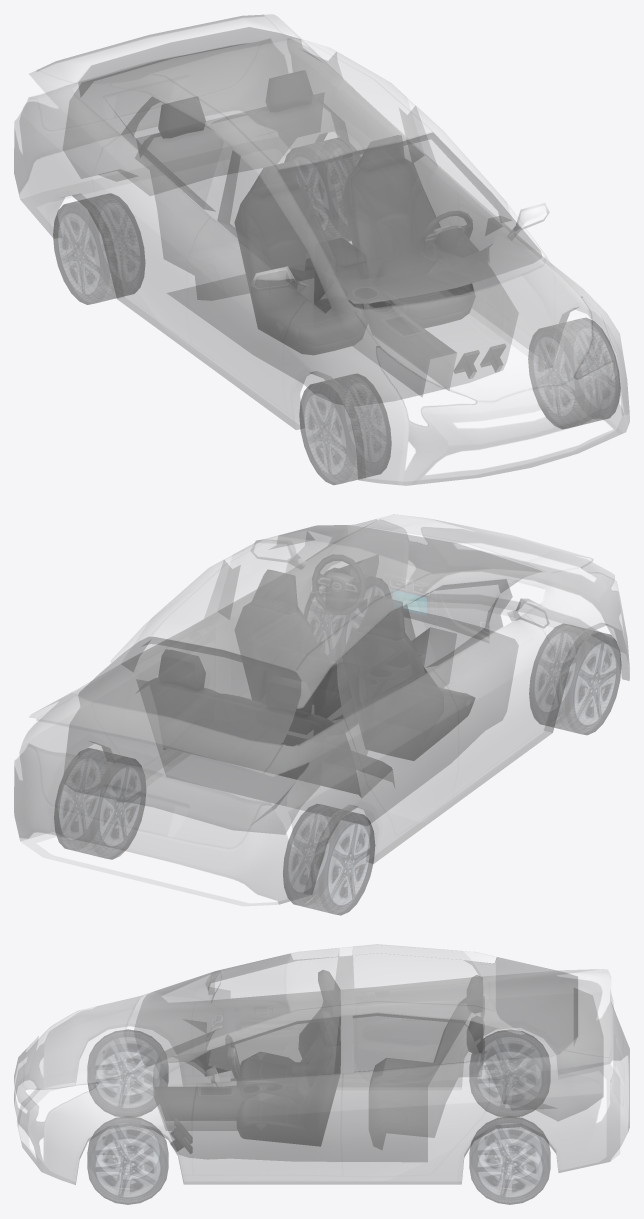
File: sedan.glb
The picture shows the model from 3 angles, top to bottom: view 1: azimuth 30°, elevation 25°; view 2: azimuth 150°, elevation 25°; view 3: azimuth 270°, elevation 25°; orthographic projection. The views are drawn at different scales.
Parts seen in each view (by area): view 1: body, wheel_FR, wheel_RR, wheel_FL, wheel_RL; view 2: body, wheel_FR, wheel_RR, wheel_RL, wheel_FL; view 3: body, wheel_FL, wheel_RL, wheel_FR, wheel_RR.
Part boxes in pixels (box(x1,y1,x2,y2)): body: box(14, 14, 629, 485); wheel_FR: box(299, 373, 391, 484); wheel_RR: box(53, 193, 145, 304); wheel_FL: box(528, 318, 620, 428); wheel_RL: box(285, 138, 358, 241); body: box(14, 514, 629, 905); wheel_FR: box(529, 624, 621, 734); wheel_RR: box(283, 804, 374, 915); wheel_RL: box(54, 748, 145, 859); wheel_FL: box(304, 568, 391, 662); body: box(14, 944, 629, 1184); wheel_FL: box(87, 1116, 168, 1204); wheel_RL: box(469, 1116, 550, 1204); wheel_FR: box(87, 1029, 168, 1116); wheel_RR: box(469, 1030, 550, 1116).
Size of the model in its own units: 1.98 by 1.51 by 4.55.
Materials: 4 (3 with a texture image).
